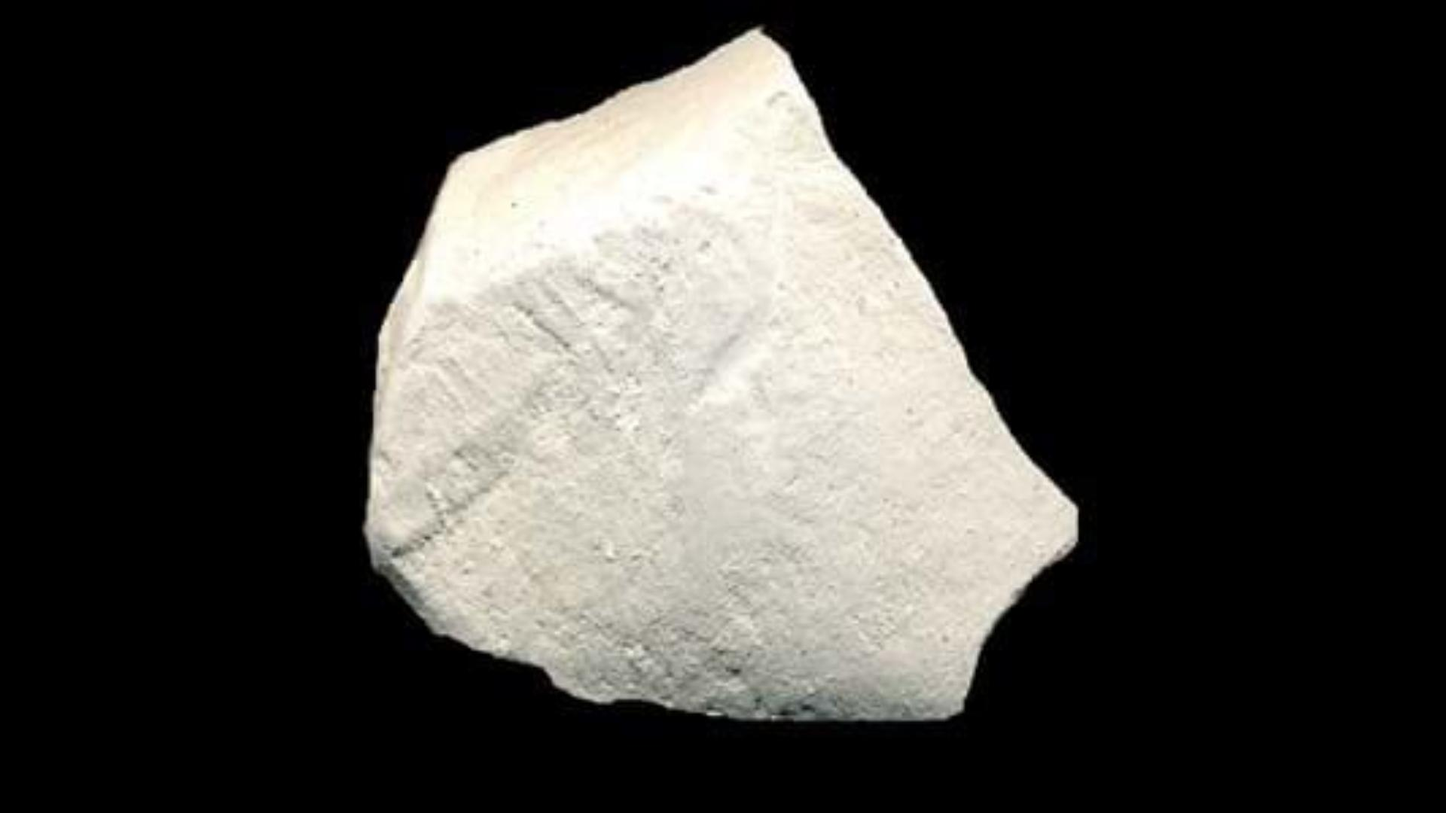rock: (379, 33, 1073, 715)
